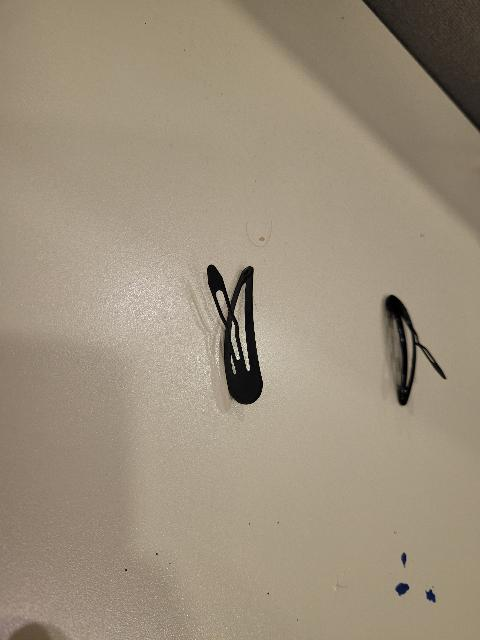Metal: (201, 254, 275, 415), (375, 290, 450, 409)
